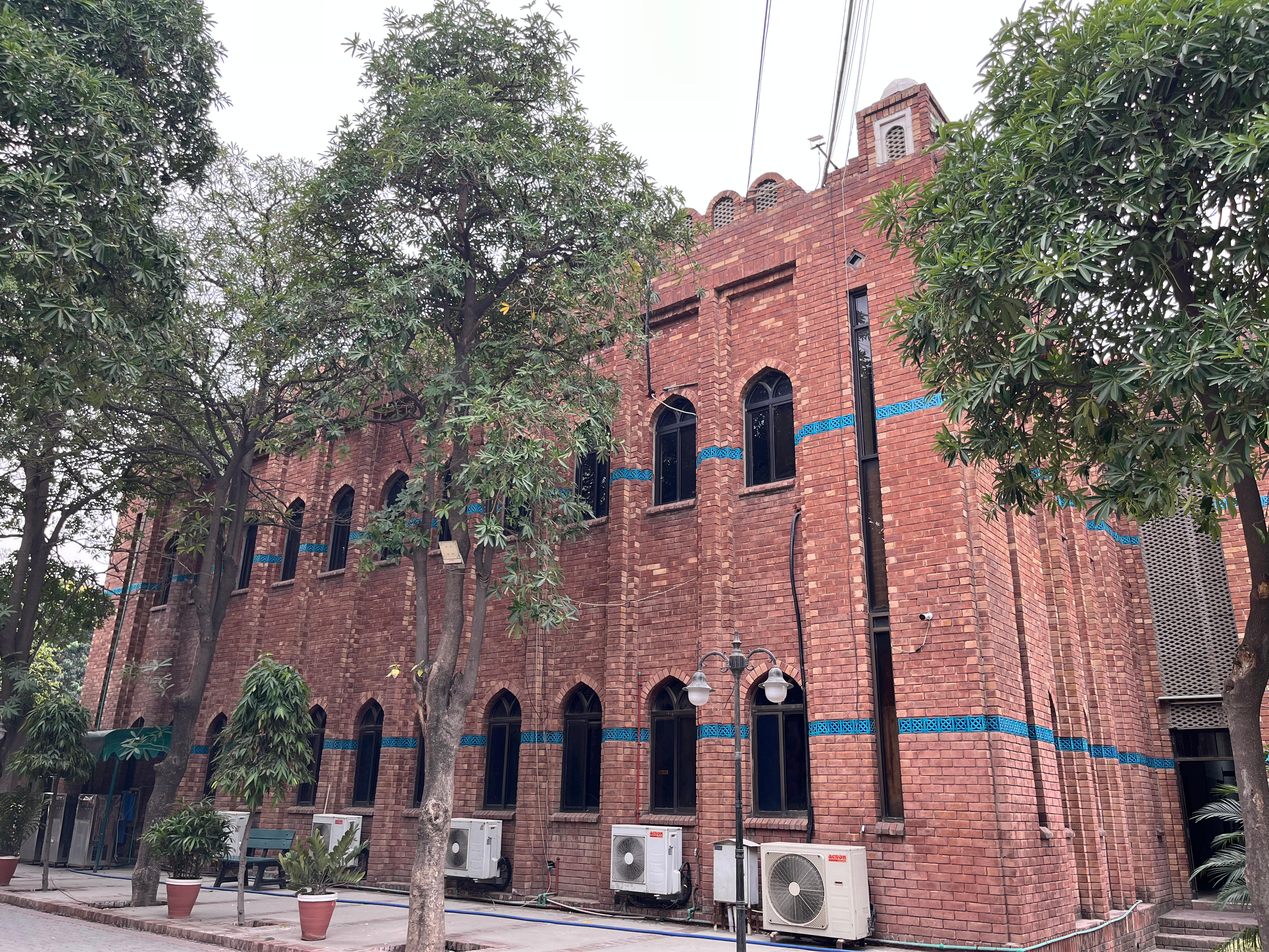Block B: (121, 75, 1269, 943)
